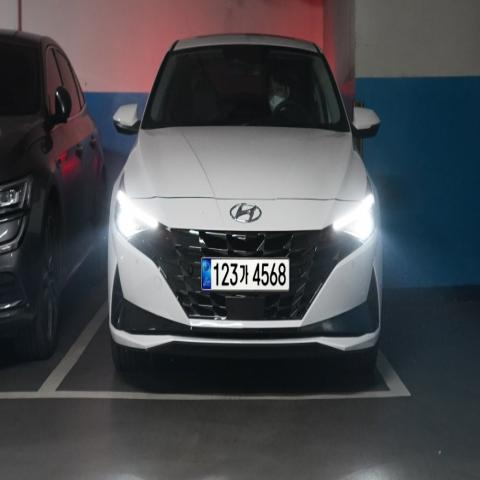LP: (198, 253, 291, 296)
